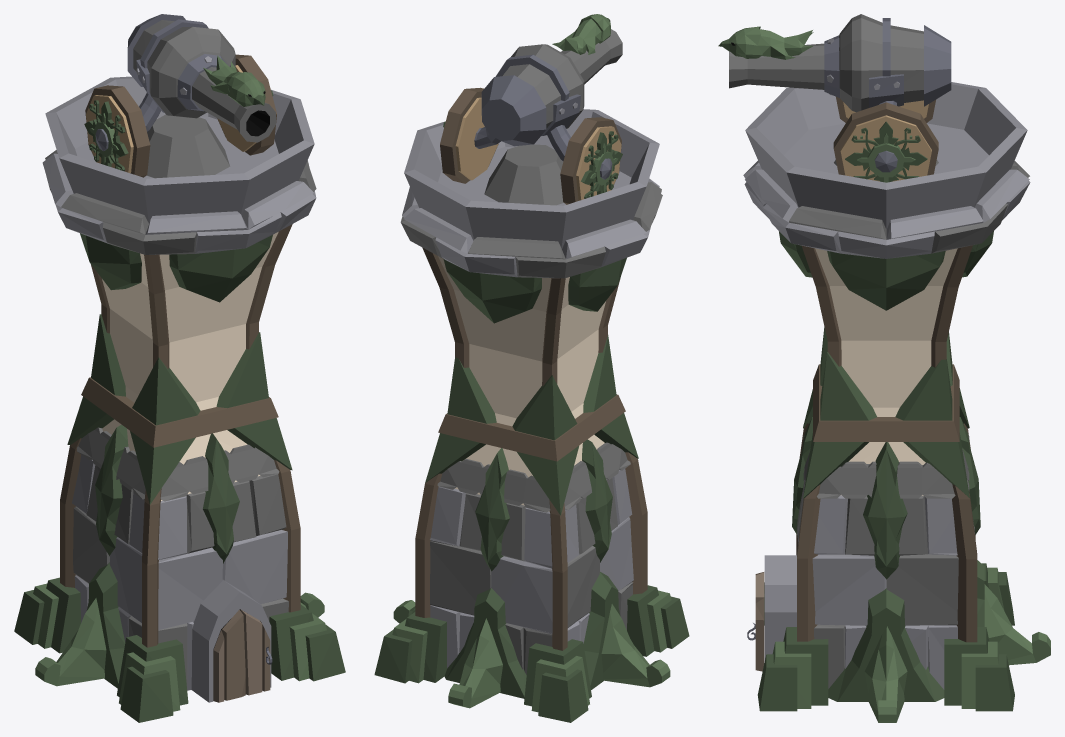
The model's file is _Cannon_tower_LVL_3.fbx.
3 views of the same model, side by side, from view 1: azimuth 30°, elevation 25°; view 2: azimuth 150°, elevation 25°; view 3: azimuth 270°, elevation 25° (orthographic). The views are drawn at different scales.
Parts seen in each view (by area): view 1: Cannon_tower_LVL_3.001, Cannon_tower_LVL_3; view 2: Cannon_tower_LVL_3.001, Cannon_tower_LVL_3; view 3: Cannon_tower_LVL_3.001, Cannon_tower_LVL_3.
Boxes of the visible parts, box(x1,y1,x2,y2) form: Cannon_tower_LVL_3.001: box(14, 76, 345, 722); Cannon_tower_LVL_3: box(84, 14, 276, 177); Cannon_tower_LVL_3.001: box(374, 109, 689, 722); Cannon_tower_LVL_3: box(440, 14, 622, 204); Cannon_tower_LVL_3.001: box(743, 82, 1050, 722); Cannon_tower_LVL_3: box(718, 14, 951, 182).
Size of the model in its own units: 690 by 1488 by 698.
